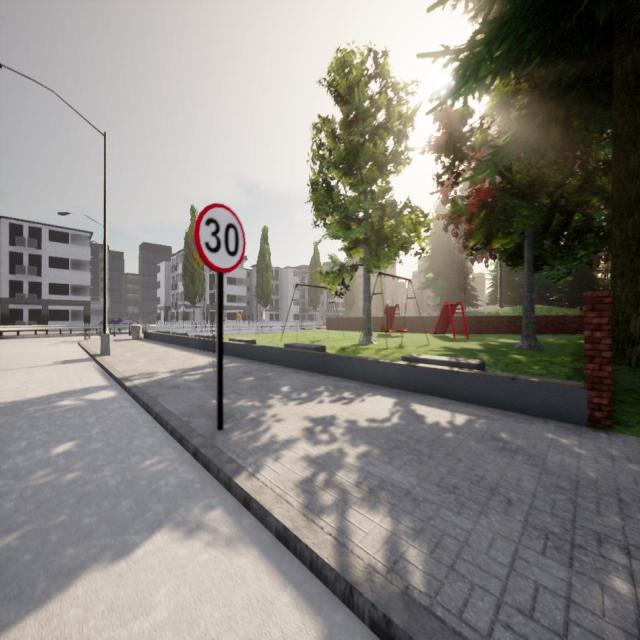Pedestrian: (236, 311, 242, 321)
Traffic_Signs: (194, 203, 246, 274)
Vehicle: (100, 316, 123, 324)
